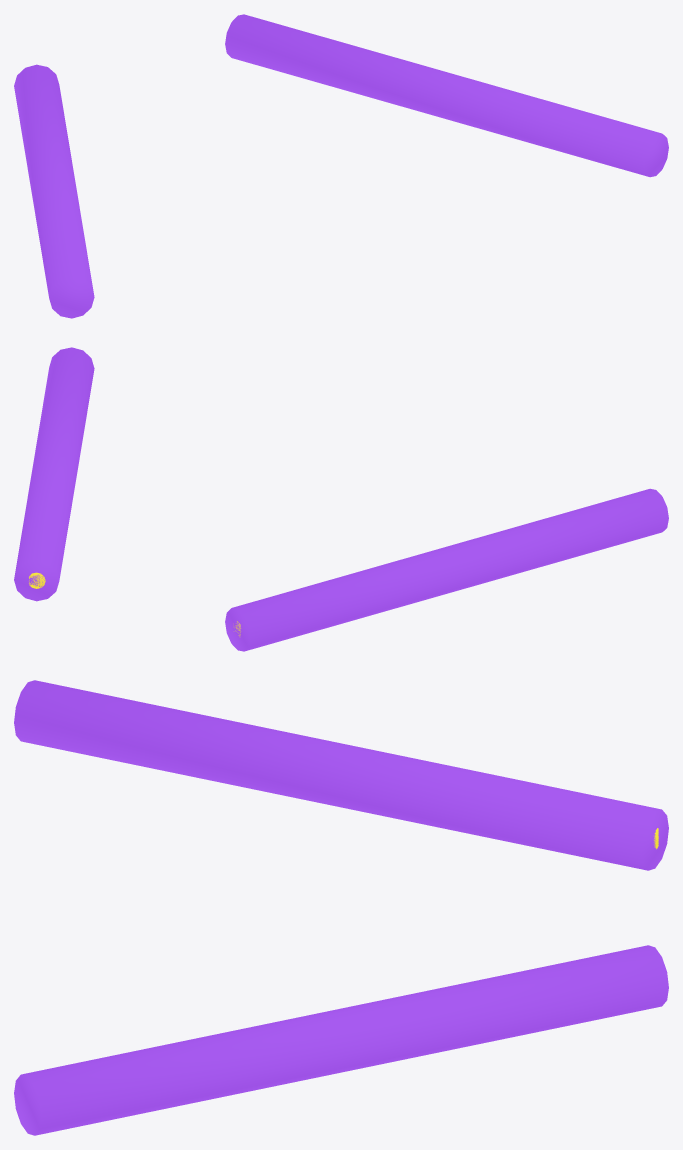
File: trait-eyes-purple-laser-skull.glb
3 views of the same model, one above another, from view 1: azimuth 30°, elevation 25°; view 2: azimuth 150°, elevation 25°; view 3: azimuth 270°, elevation 25° (orthographic). The views are drawn at different scales.
Visible parts, largest first — view 1: trait_eye_beam_R, trait_eye_beam_L; view 2: trait_eye_beam_L, trait_eye_beam_R; view 3: trait_eye_beam_R, trait_eye_beam_L.
Boxes of the visible parts, left/top/right/bottom form: trait_eye_beam_R: left=225, top=14, right=668, bottom=177; trait_eye_beam_L: left=14, top=64, right=94, bottom=318; trait_eye_beam_L: left=225, top=488, right=668, bottom=651; trait_eye_beam_R: left=14, top=347, right=94, bottom=601; trait_eye_beam_R: left=14, top=945, right=668, bottom=1135; trait_eye_beam_L: left=14, top=680, right=668, bottom=870.
Size of the model in its own units: 1.42 by 0.09 by 0.9382.
